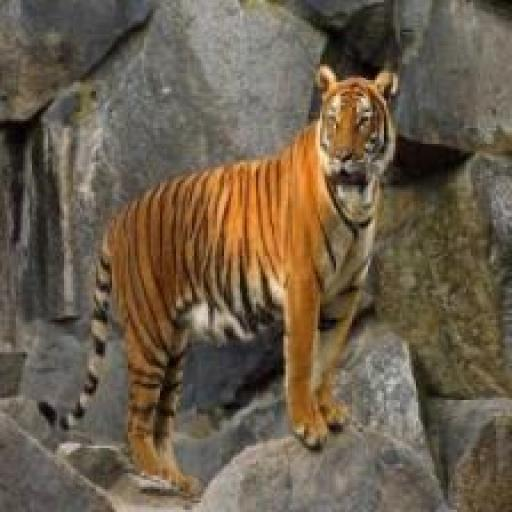Tiger: (39, 62, 409, 496)
